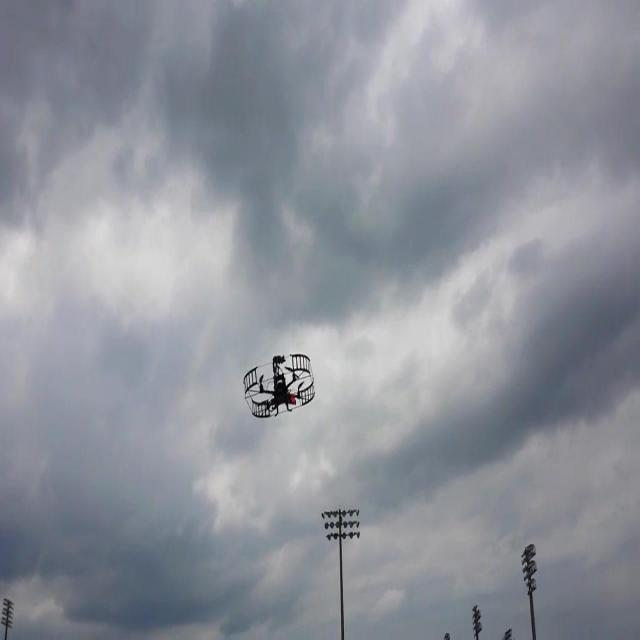UAV: (243, 354, 315, 418)
